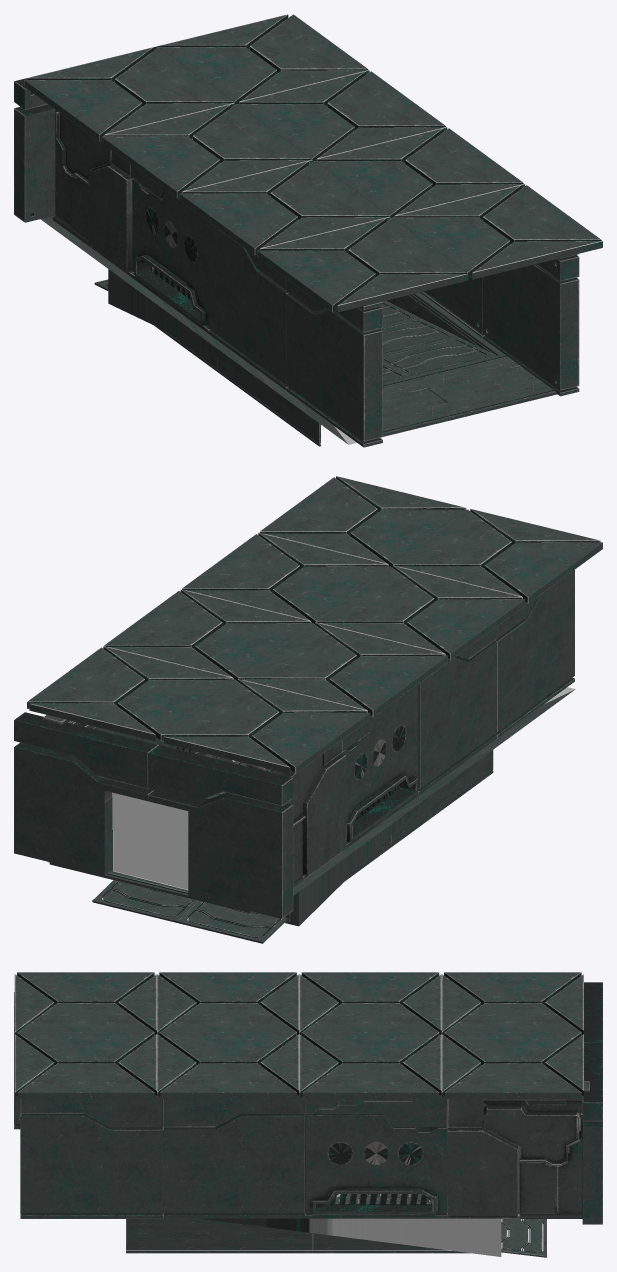
Rendered from InitialLevel2Text.fbx.
The picture shows the model from 3 angles, top to bottom: view 1: azimuth 30°, elevation 25°; view 2: azimuth 150°, elevation 25°; view 3: azimuth 270°, elevation 25°; orthographic projection. The views are drawn at different scales.
Parts seen in each view (by area): view 1: Techo02.023, Panel03low.001, Piso03.001, Panel03low.003, Panel05low.010; view 2: Techo02.023, Panel05low.010, Panel03low.001, Piso03.001, P_Triangulos_low.001, Panel03low.003; view 3: Techo02.023, Panel03low.003, Piso03.001, Panel05low.010, Panel03low.001.
Part boxes in pixels (box(x1,y1,x2,y2)): Techo02.023: box(24, 14, 602, 312); Panel03low.001: box(53, 110, 382, 447); Piso03.001: box(40, 196, 556, 446); Panel03low.003: box(277, 73, 579, 396); Panel05low.010: box(14, 45, 161, 222); Techo02.023: box(27, 476, 602, 773); Panel05low.010: box(14, 712, 293, 918); Panel03low.001: box(246, 570, 574, 887); Piso03.001: box(48, 682, 575, 943); P_Triangulos_low.001: box(112, 792, 188, 890); Panel03low.003: box(43, 649, 207, 755); Techo02.023: box(14, 972, 583, 1098); Panel03low.003: box(20, 1081, 589, 1218); Piso03.001: box(126, 1128, 580, 1257); Panel05low.010: box(582, 982, 602, 1224); Panel03low.001: box(14, 992, 580, 1129).
Bounding box in the file's own units: 804 × 578 × 1655.
